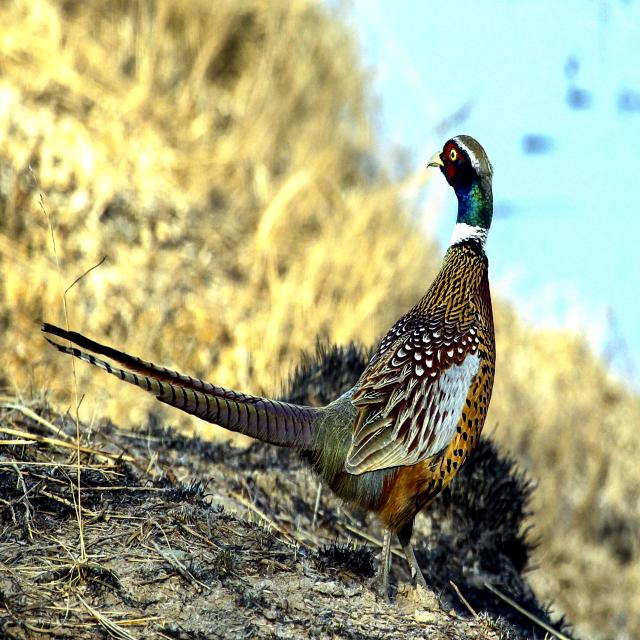Phasianus Colchicus: (39, 321, 321, 450)
